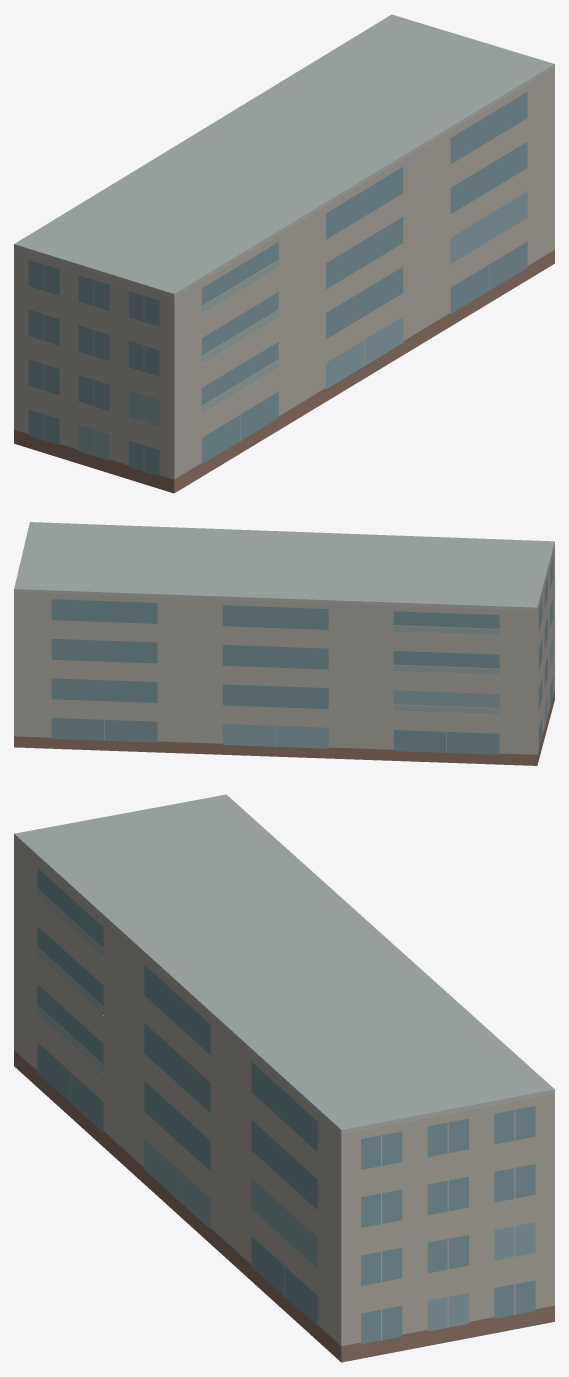
The model's file is survey-upis-32725196.glb.
3 renders of one model, top to bottom at view 1: azimuth 30°, elevation 25°; view 2: azimuth 150°, elevation 25°; view 3: azimuth 270°, elevation 25°, orthographic. The views are drawn at different scales.
Parts seen in each view (by area): view 1: survey-upis-32725196.tmp; view 2: survey-upis-32725196.tmp; view 3: survey-upis-32725196.tmp.
Boxes of the visible parts, x1,y1,x2,y2 form: survey-upis-32725196.tmp: [14, 14, 554, 493]; survey-upis-32725196.tmp: [14, 522, 554, 765]; survey-upis-32725196.tmp: [14, 794, 554, 1362].
Bounding box in the file's own units: 37.77 × 12.2 × 25.73.
